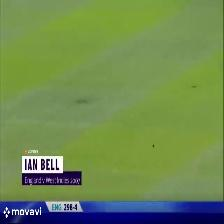ball: (151, 143, 156, 149)
